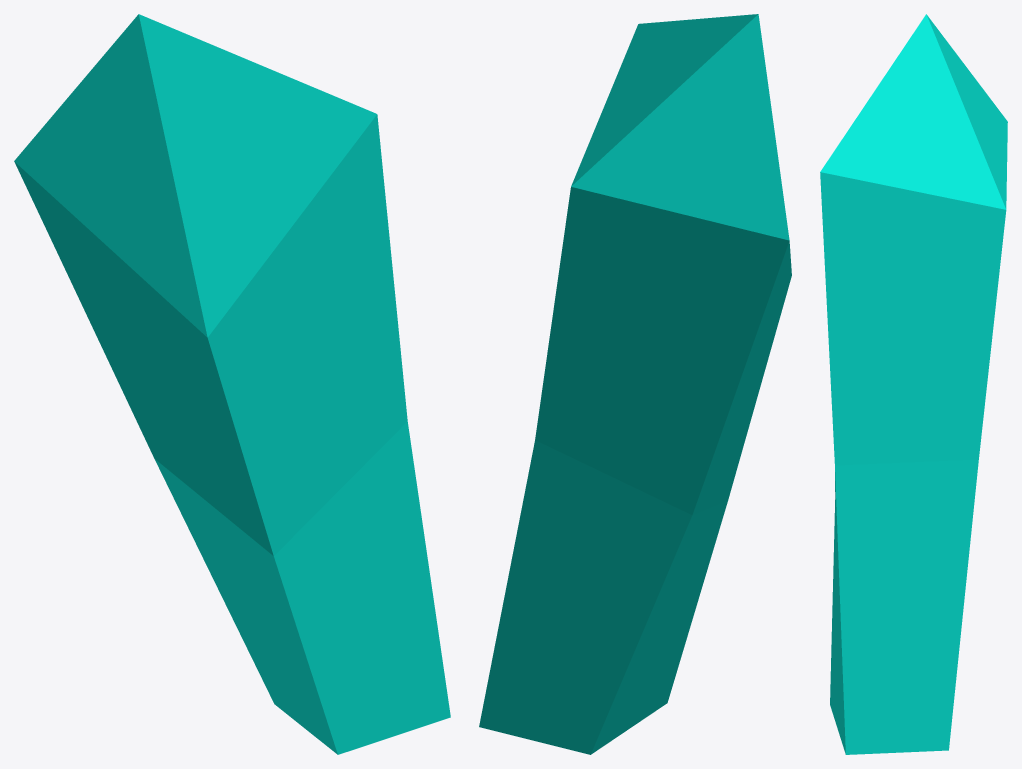
Rendered from Gem02.fbx.
The picture shows the model from 3 angles, left to right: view 1: azimuth 30°, elevation 25°; view 2: azimuth 150°, elevation 25°; view 3: azimuth 270°, elevation 25°; orthographic projection. The views are drawn at different scales.
Visible parts, largest first — view 1: GemStone02; view 2: GemStone02; view 3: GemStone02.
Boxes of the visible parts, left/top/right/bottom form: GemStone02: left=14, top=14, right=450, bottom=754; GemStone02: left=479, top=14, right=791, bottom=754; GemStone02: left=820, top=14, right=1007, bottom=754.
Bounding box in the file's own units: 2.64 × 5.42 × 1.46.
